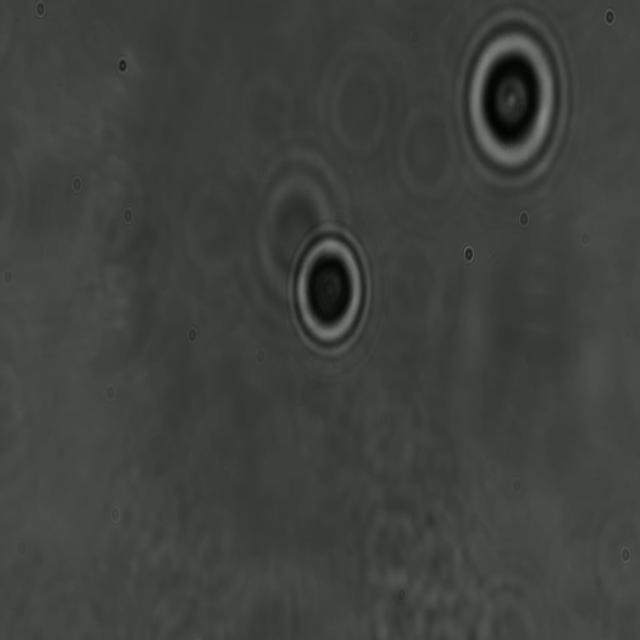LCELL: (449, 11, 577, 188)
